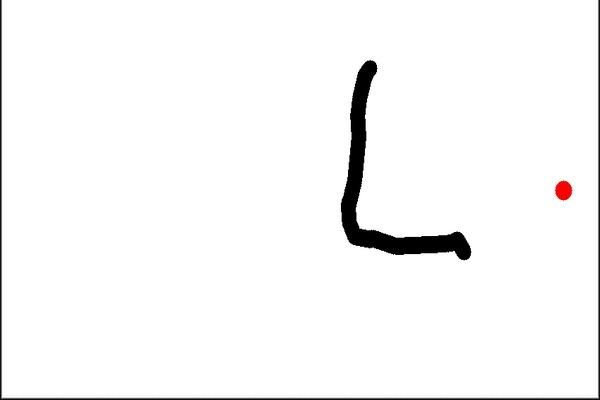L: (334, 52, 476, 267)
